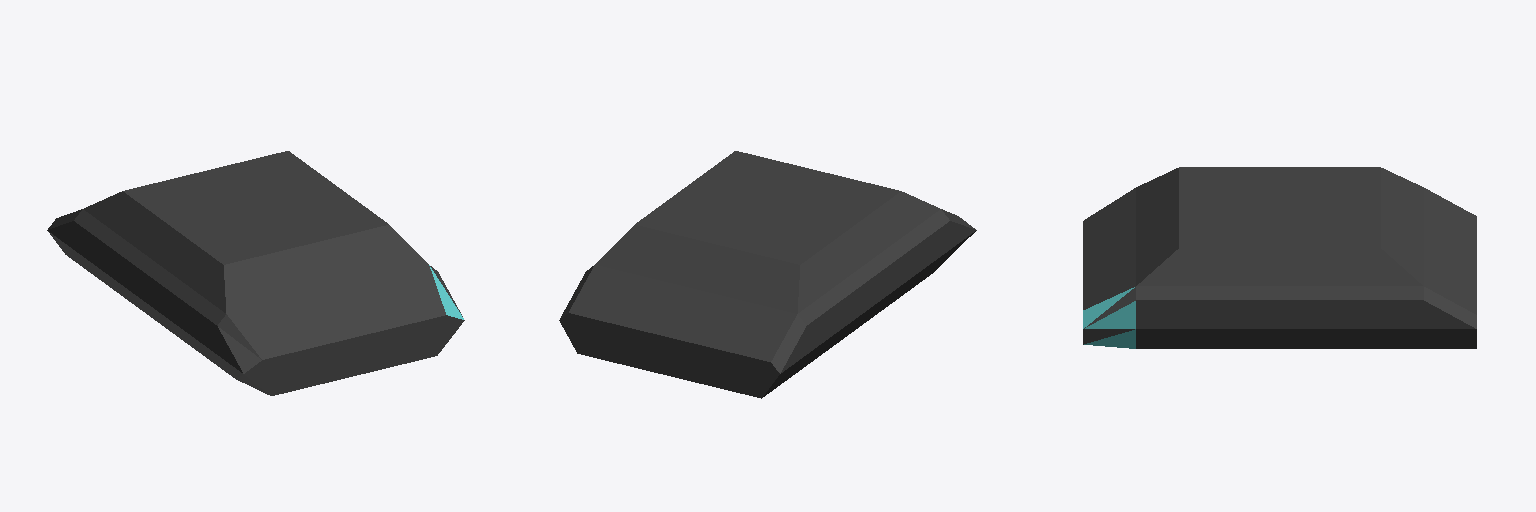
The model's file is vehicle_moon_buggy_simple.obj.
3 views of the same model, side by side, from view 1: azimuth 30°, elevation 25°; view 2: azimuth 150°, elevation 25°; view 3: azimuth 270°, elevation 25° (orthographic).
Bounding box in the file's own units: 2.4 × 1 × 3.7.